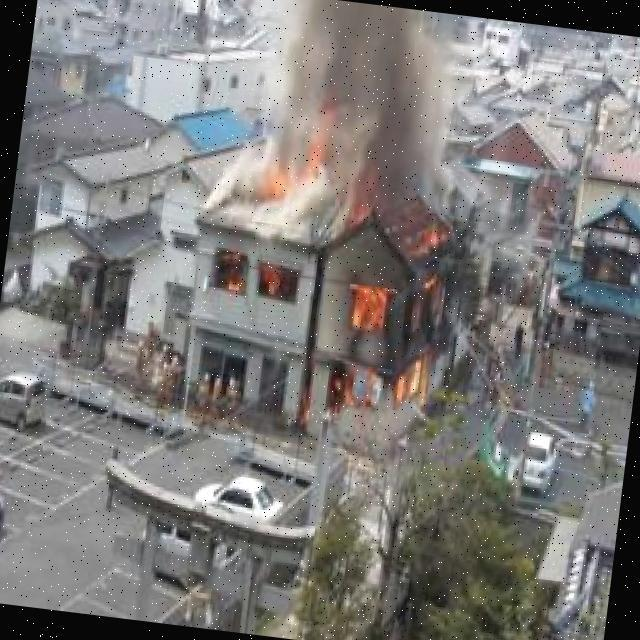Fire: (329, 224, 449, 421), (207, 248, 301, 309)
